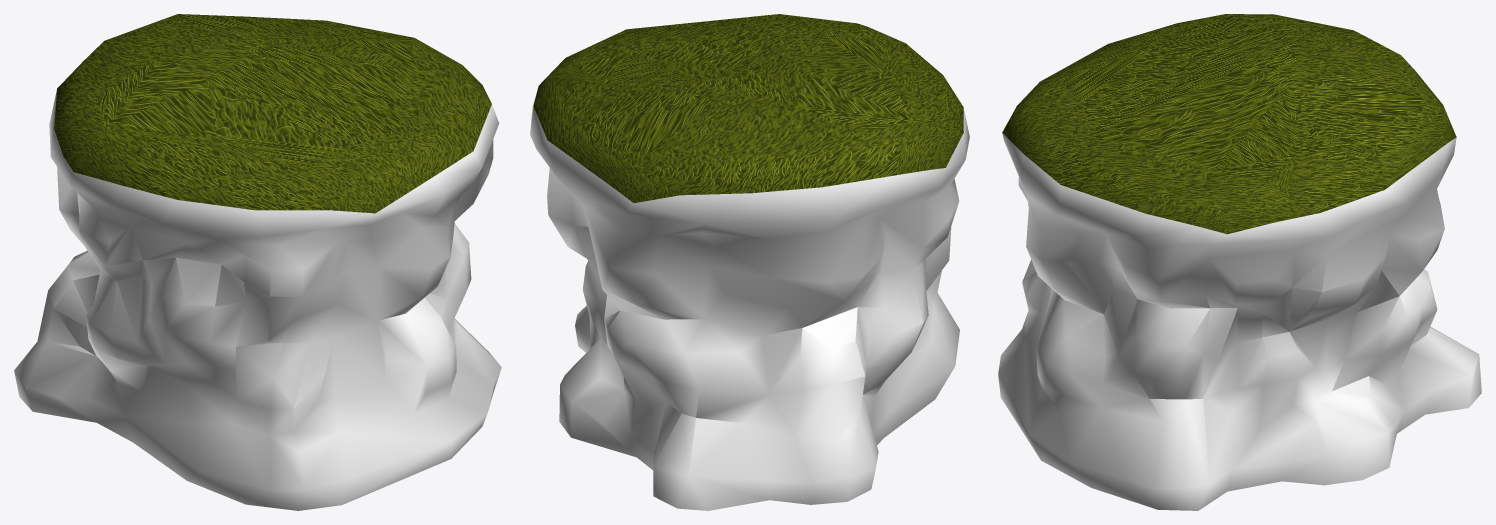
The model's file is PlatformGrass3_LOD1.fbx.
3 renders of one model, left to right at view 1: azimuth 30°, elevation 25°; view 2: azimuth 150°, elevation 25°; view 3: azimuth 270°, elevation 25°, orthographic.
Visible parts, largest first — view 1: Mesh; view 2: Mesh; view 3: Mesh.
Boxes of the visible parts, x1,y1,x2,y2 form: Mesh: [14, 14, 501, 510]; Mesh: [530, 14, 969, 510]; Mesh: [998, 14, 1481, 510].
Size of the model in its own units: 1490 by 1244 by 1582.
